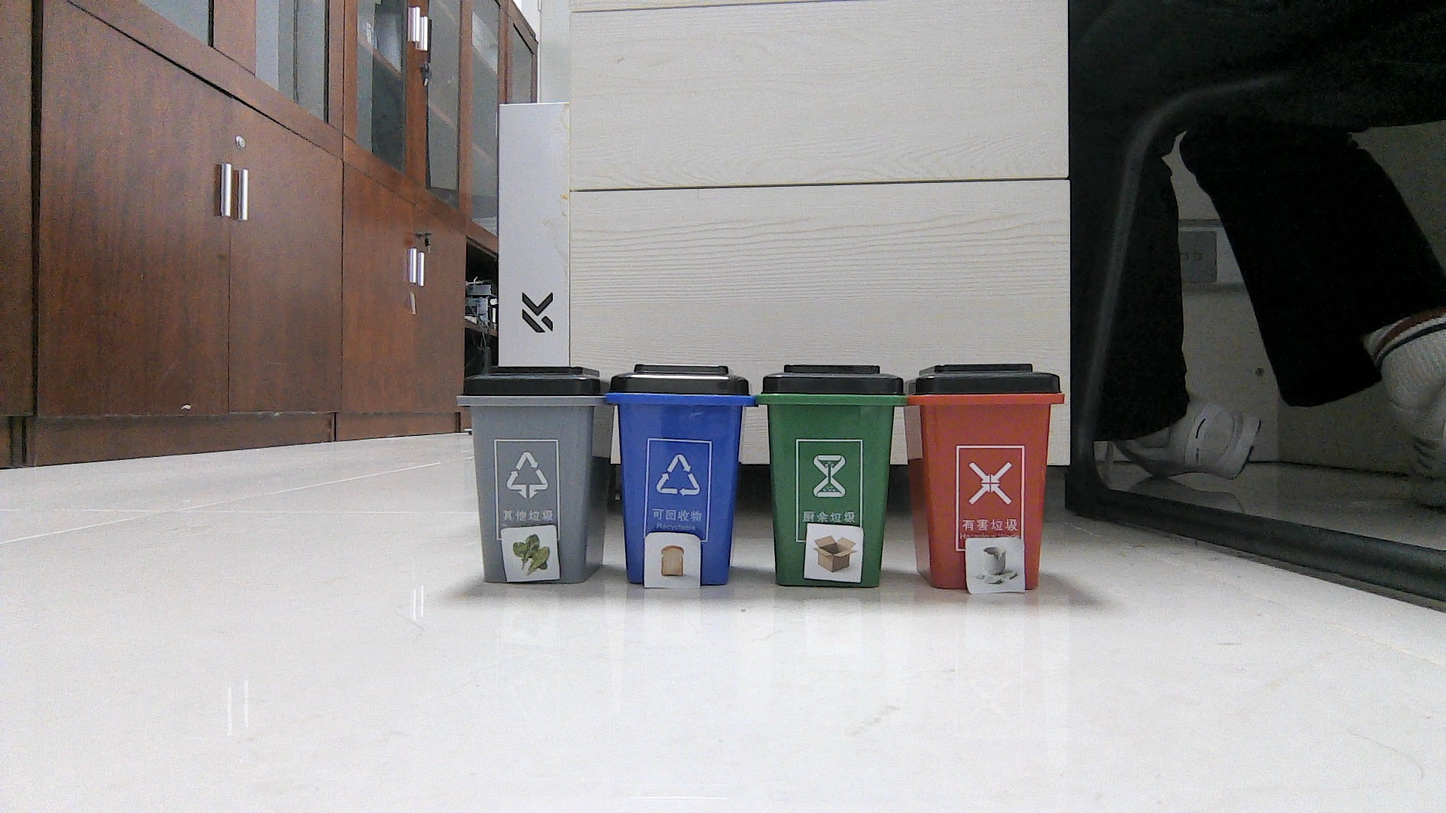food_trash: (507, 529, 554, 576), (648, 536, 693, 583)
other_trash: (969, 540, 1020, 592)
recyclable_trash: (807, 527, 861, 579)
